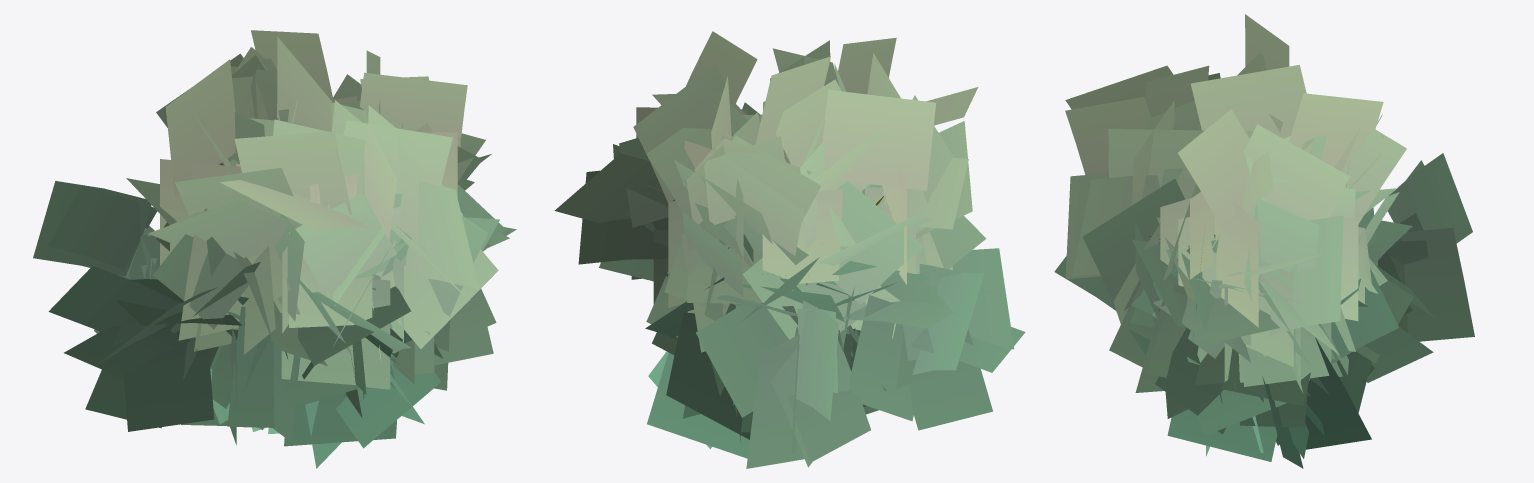
File: bush_broad_b.glb
The picture shows the model from 3 angles, left to right: view 1: azimuth 30°, elevation 25°; view 2: azimuth 150°, elevation 25°; view 3: azimuth 270°, elevation 25°; orthographic projection. The views are drawn at different scales.
Visible parts, largest first — view 1: LOD0; view 2: LOD0; view 3: LOD0.
Part boxes in pixels (x1,y1,x2,y2): LOD0: (33, 30, 516, 468); LOD0: (554, 31, 1025, 468); LOD0: (1054, 14, 1474, 468).
Size of what is drawn, in the model's own units: 2.45 by 2.32 by 2.47.
